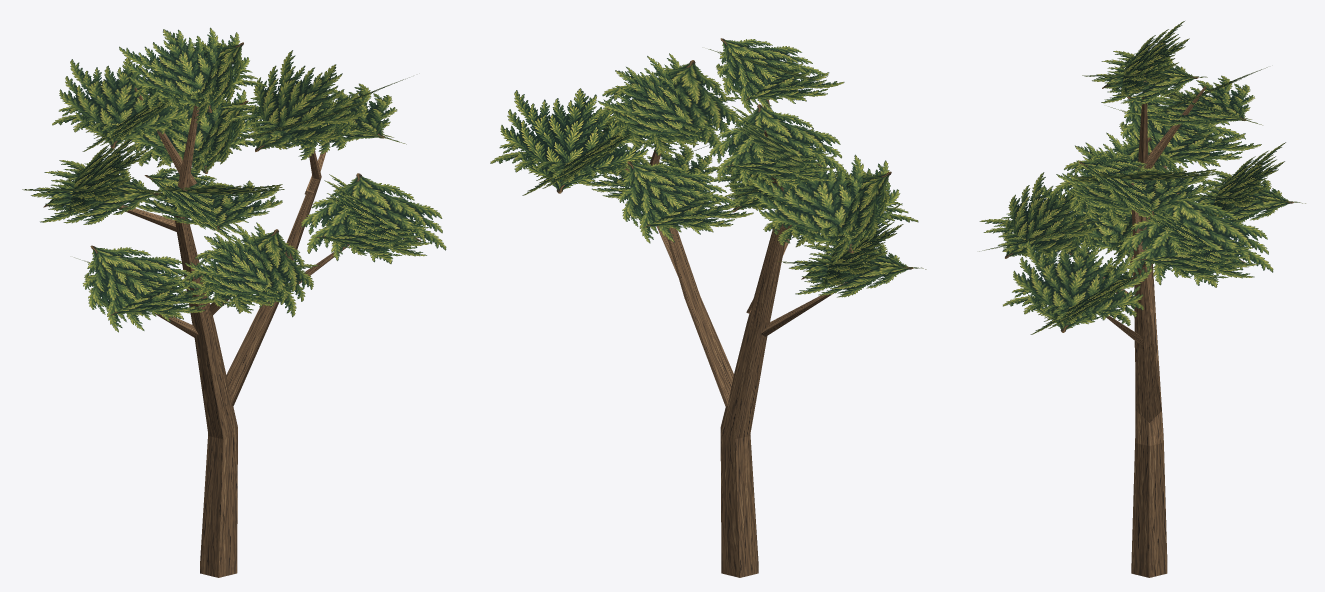
File: Betulla_02_Giovane.obj
3 views of the same model, side by side, from view 1: azimuth 30°, elevation 25°; view 2: azimuth 150°, elevation 25°; view 3: azimuth 270°, elevation 25° (orthographic). The views are drawn at different scales.
Parts seen in each view (by area): view 1: Betulla_02_Giovane; view 2: Betulla_02_Giovane; view 3: Betulla_02_Giovane.
Boxes of the visible parts, x1,y1,x2,y2 form: Betulla_02_Giovane: (22,27,446,577); Betulla_02_Giovane: (490,38,926,577); Betulla_02_Giovane: (979,21,1305,577).
Size of the model in its own units: 4.11 by 4.99 by 3.08.
